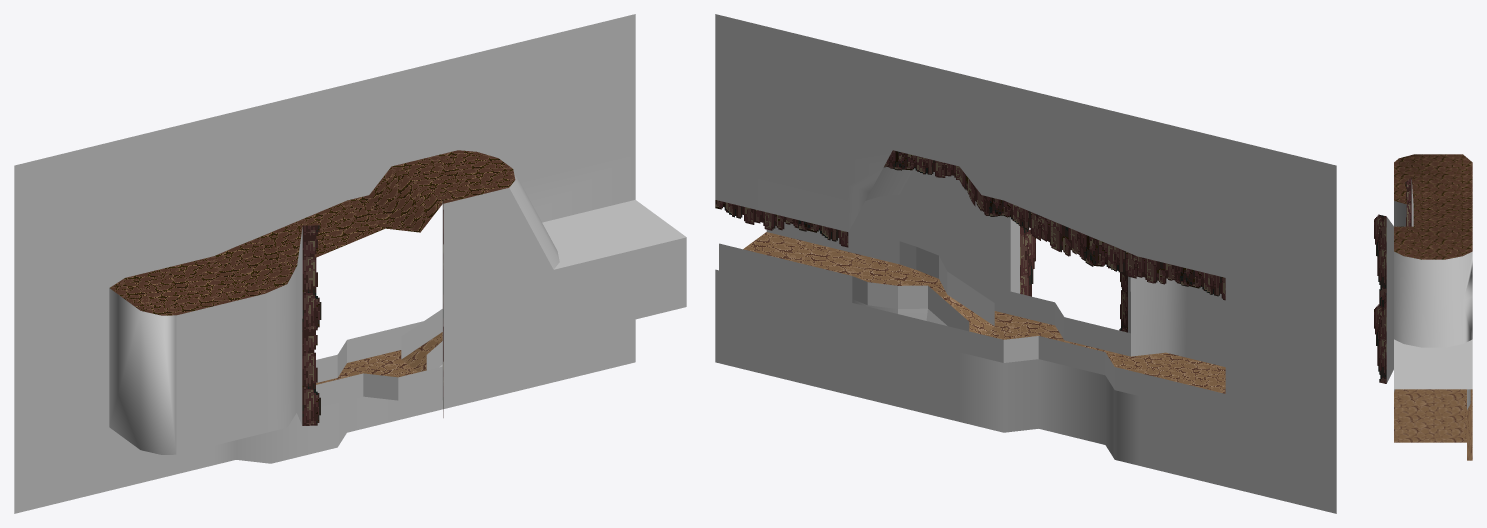
The model's file is Room3.3.fbx.
3 renders of one model, left to right at view 1: azimuth 30°, elevation 25°; view 2: azimuth 150°, elevation 25°; view 3: azimuth 270°, elevation 25°, orthographic. The views are drawn at different scales.
Parts seen in each view (by area): view 1: polySurface2; view 2: polySurface2; view 3: polySurface2.
Boxes of the visible parts, left/top/right/bottom form: polySurface2: left=14, top=14, right=686, bottom=513; polySurface2: left=715, top=14, right=1336, bottom=513; polySurface2: left=1374, top=154, right=1472, bottom=460.
Bounding box in the file's own units: 28 × 15 × 5.46.
